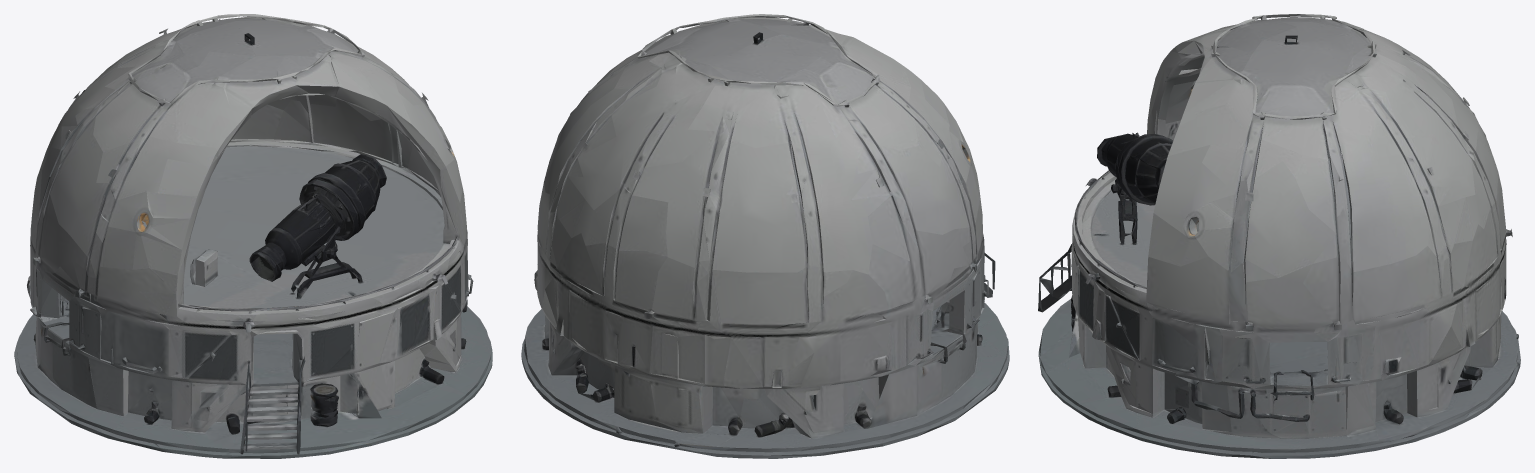
The model's file is web.glb.
3 views of the same model, side by side, from view 1: azimuth 30°, elevation 25°; view 2: azimuth 150°, elevation 25°; view 3: azimuth 270°, elevation 25° (orthographic). The views are drawn at different scales.
Visible parts, largest first — view 1: output_unwrapped; view 2: output_unwrapped; view 3: output_unwrapped.
Part boxes in pixels (box(x1,y1,x2,y2)): output_unwrapped: box(14, 14, 492, 458); output_unwrapped: box(521, 14, 1009, 458); output_unwrapped: box(1038, 14, 1520, 458).
Size of the model in its own units: 1.89 by 1.39 by 1.89.
1 material, 1 textured.
